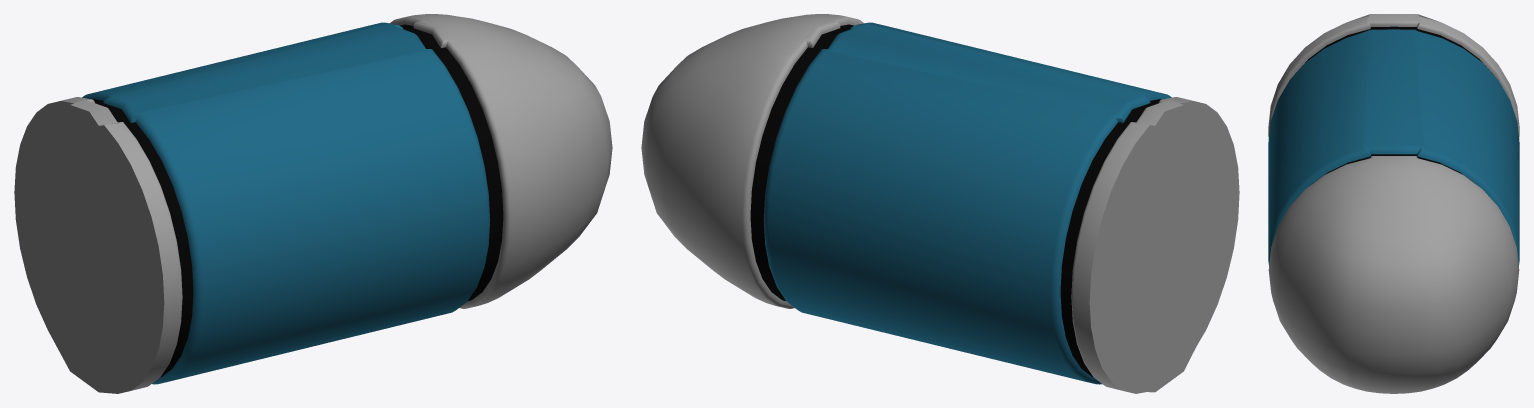
The model's file is bullet.glb.
3 views of the same model, side by side, from view 1: azimuth 30°, elevation 25°; view 2: azimuth 150°, elevation 25°; view 3: azimuth 270°, elevation 25° (orthographic). The views are drawn at different scales.
Parts seen in each view (by area): view 1: Sphere; view 2: Sphere; view 3: Sphere.
Part boxes in pixels (box(x1,y1,x2,y2)): Sphere: box(14, 14, 612, 393); Sphere: box(641, 14, 1239, 393); Sphere: box(1268, 14, 1519, 393).
Size of the model in its own units: 0.1622 by 0.0827 by 0.0827.
